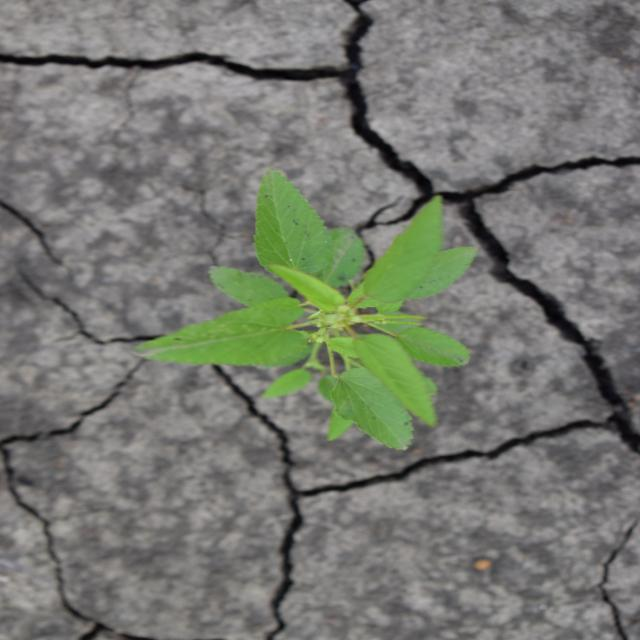PricklySida: (131, 166, 485, 452)
